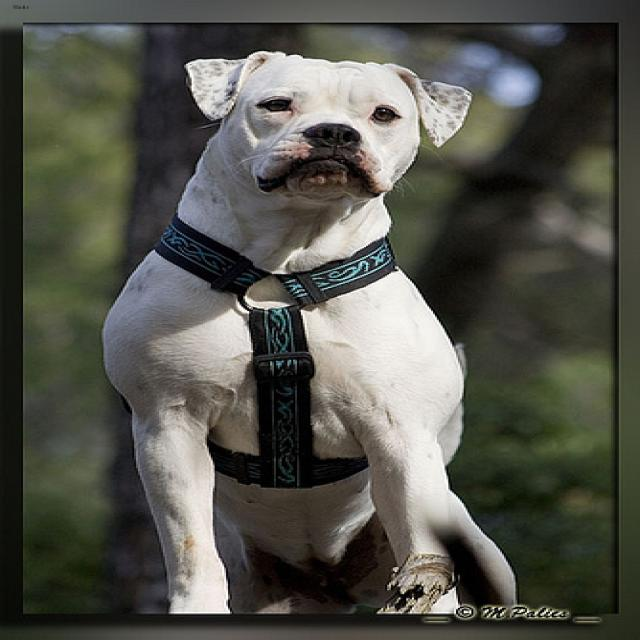dog-american_bulldog: (84, 42, 544, 637)
